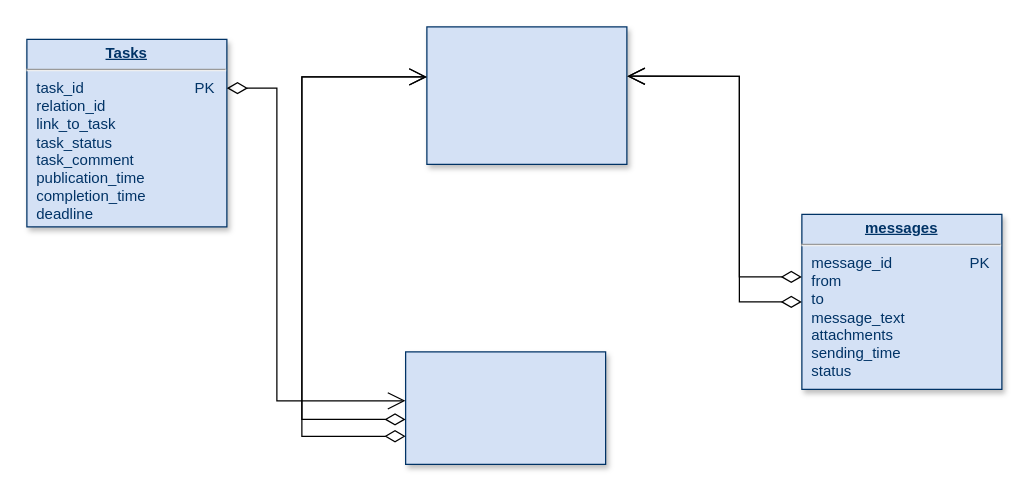
Some shapes in this 1031 by 495 pixel diagram are drawn without their labels. The centre of each missing label's shape, as x and y in pixels:
"student_teacher relation_id PK student_id teacher_id subject" goes at [506,409].
"users user_id PK email password name prifile_type" goes at [527,97].
